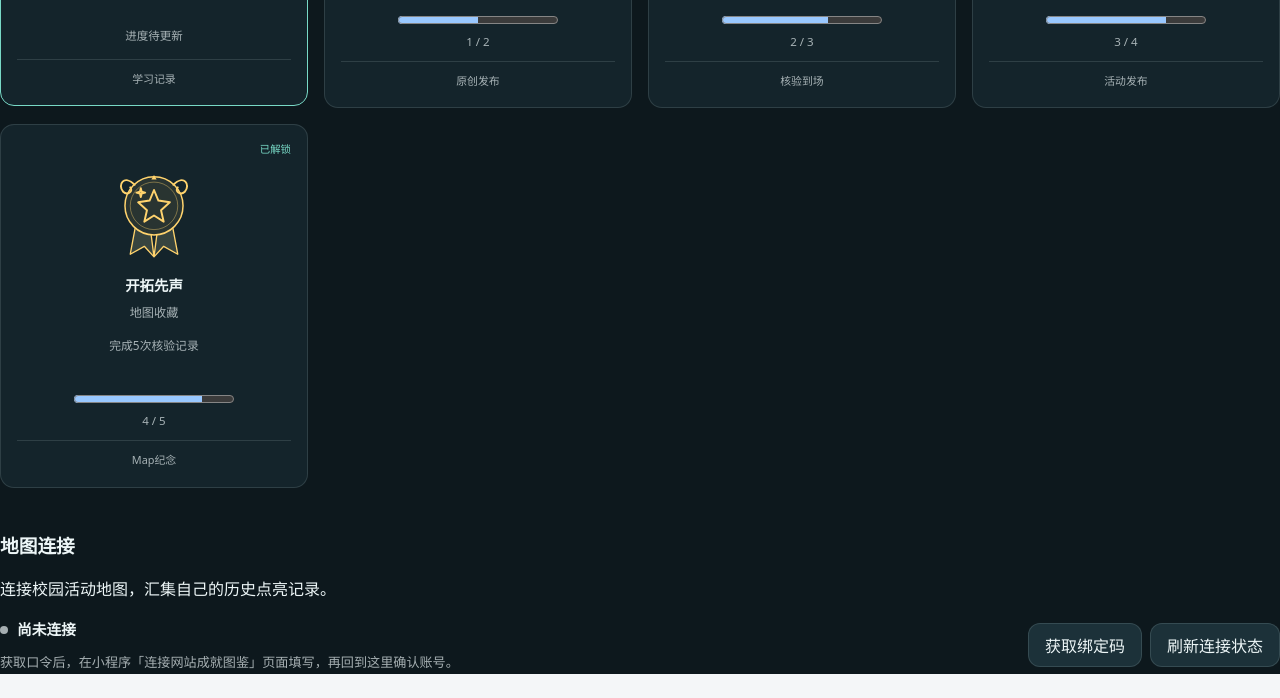
Test: AchievementAtlasPanel › shows a claimed Map account before explicit confirmation and refreshes its atlas
(page scrolled)
Click the button "获取绑定码" at (1085, 645), box [1028, 623, 1142, 667]
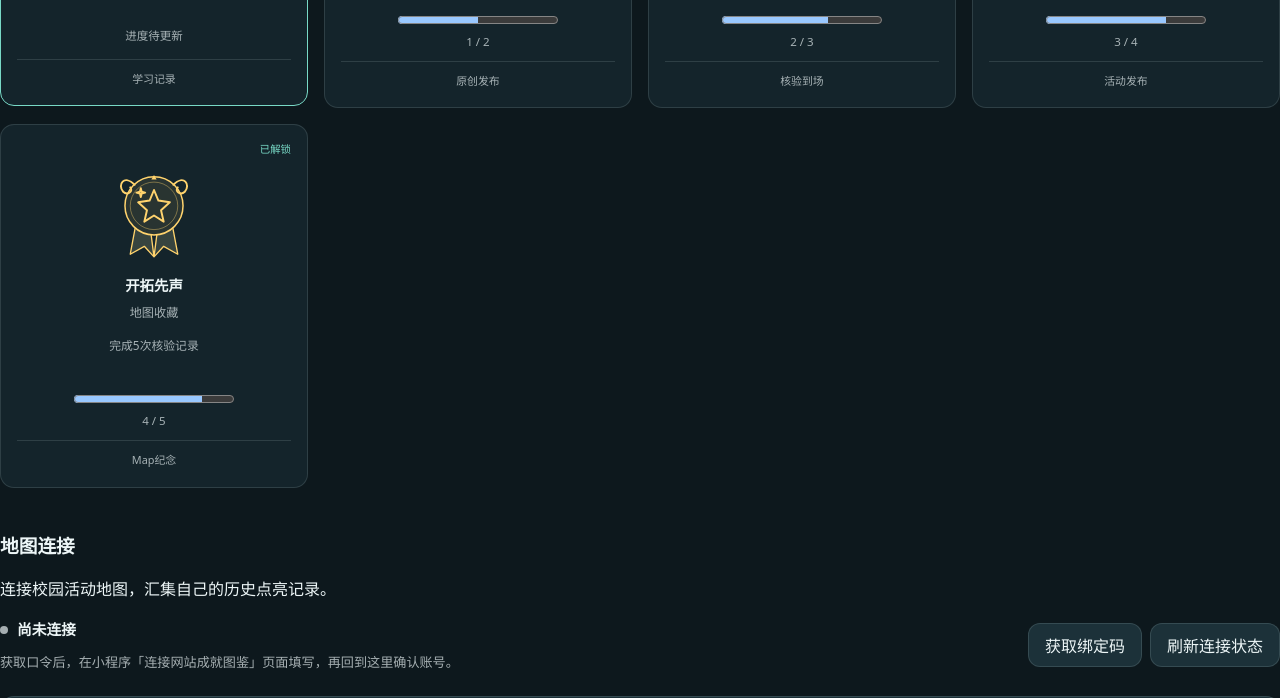
Check: the button "确认连接此账号" is not shown
Click the button "刷新连接状态" at (1215, 645), box [1150, 623, 1279, 667]
(page scrolled)
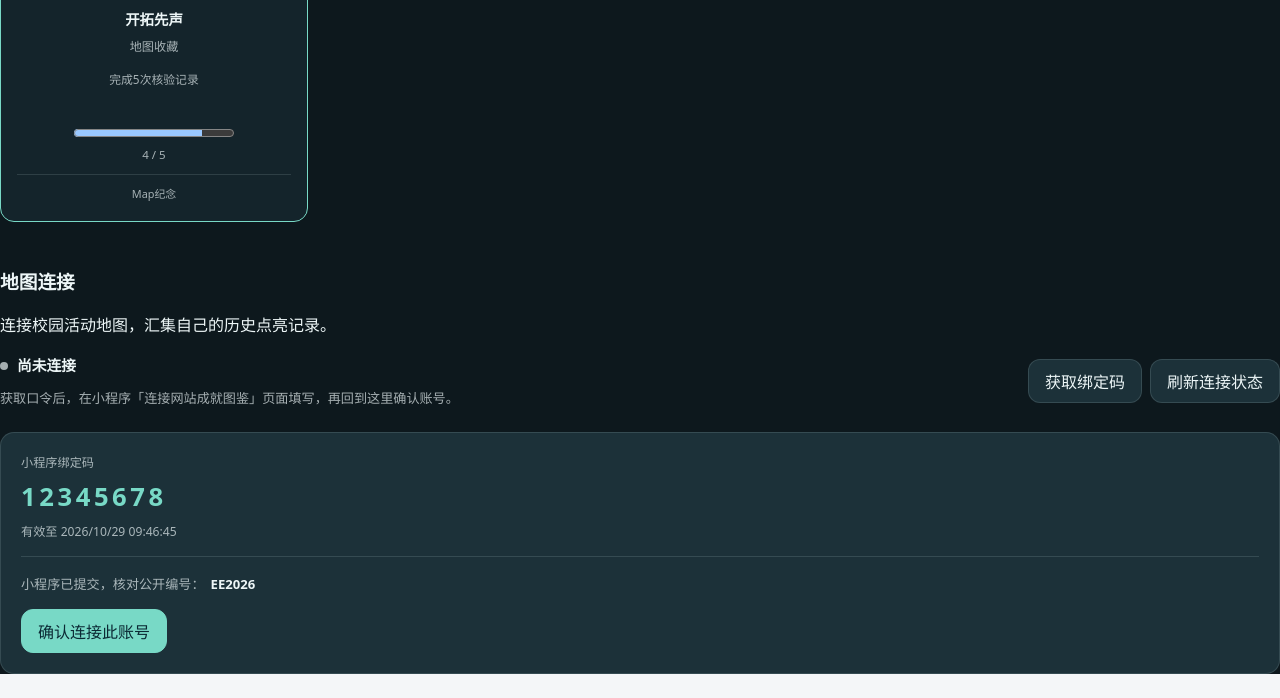
Check: the text "EE2026" is shown, box [210, 575, 255, 593]
Click the button "确认连接此账号" at (94, 631), box [21, 609, 167, 653]
(page scrolled)
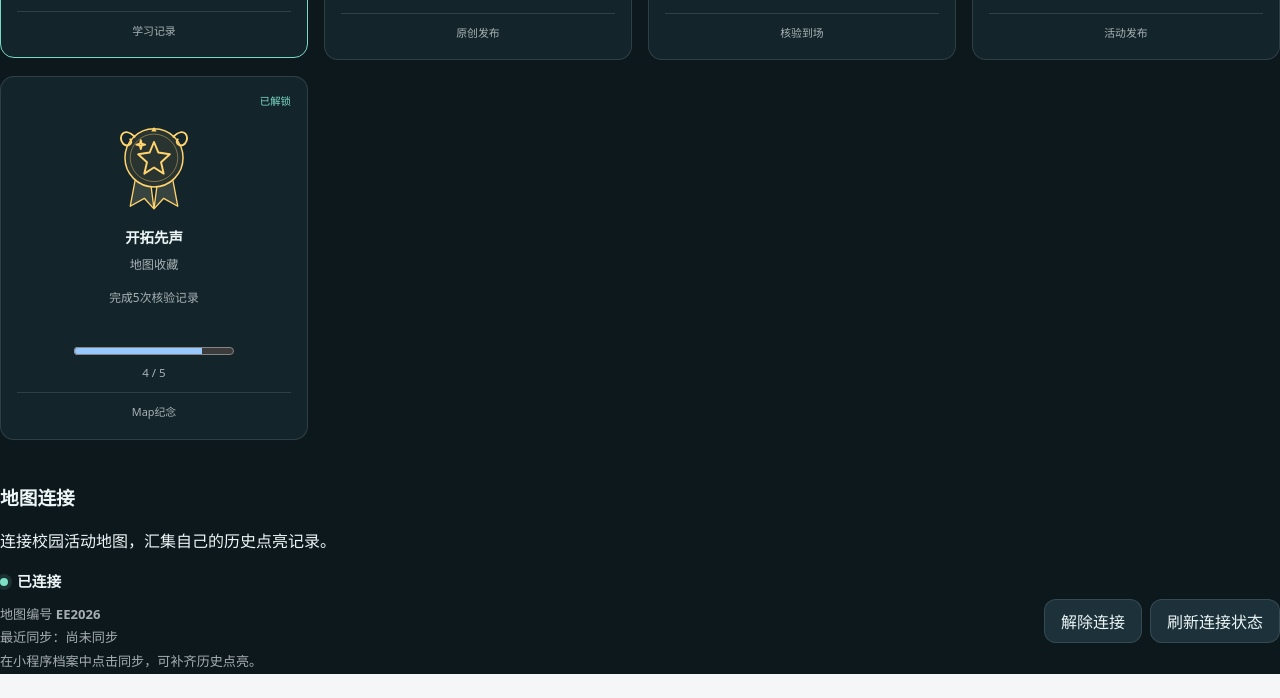
Check: the text "已连接" is shown, box [0, 571, 61, 591]
